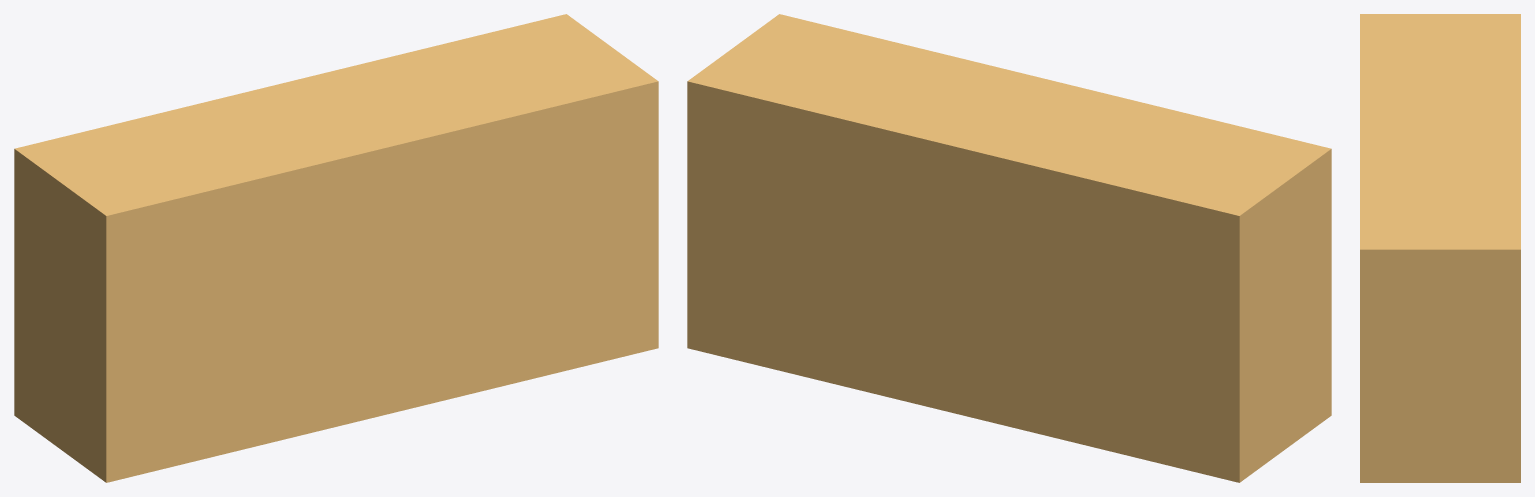
3 renders of one model, left to right at view 1: azimuth 30°, elevation 25°; view 2: azimuth 150°, elevation 25°; view 3: azimuth 270°, elevation 25°, orthographic. The views are drawn at different scales.
Parts seen in each view (by area): view 1: WoodenWallHalfTall; view 2: WoodenWallHalfTall; view 3: WoodenWallHalfTall.
Part boxes in pixels (x1=…): WoodenWallHalfTall: x1=14, y1=14, x2=658, y2=482; WoodenWallHalfTall: x1=687, y1=14, x2=1331, y2=482; WoodenWallHalfTall: x1=1360, y1=14, x2=1520, y2=482.
Size of the model in its own units: 1.73 by 0.8 by 0.5.
Materials: 1 (1 with a texture image).
